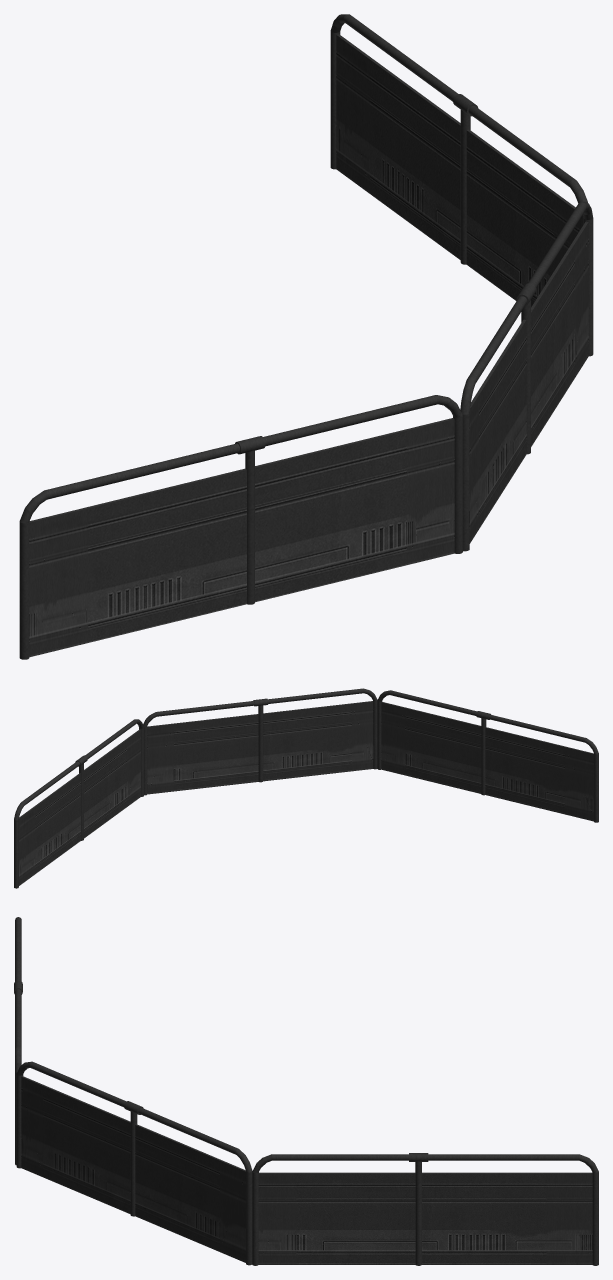
Rendered from Map_Safety_Barrier_Angle.fbx.
3 renders of one model, top to bottom at view 1: azimuth 30°, elevation 25°; view 2: azimuth 150°, elevation 25°; view 3: azimuth 270°, elevation 25°, orthographic. The views are drawn at different scales.
Visible parts, largest first — view 1: Map_Safety_Barrier_Angle; view 2: Map_Safety_Barrier_Angle; view 3: Map_Safety_Barrier_Angle.
Boxes of the visible parts, left/top/right/bottom form: Map_Safety_Barrier_Angle: left=19, top=14, right=593, bottom=659; Map_Safety_Barrier_Angle: left=14, top=688, right=598, bottom=888; Map_Safety_Barrier_Angle: left=14, top=917, right=598, bottom=1265.
Size of the model in its own units: 620 by 130 by 620.
Materials: 1 (1 with a texture image).
